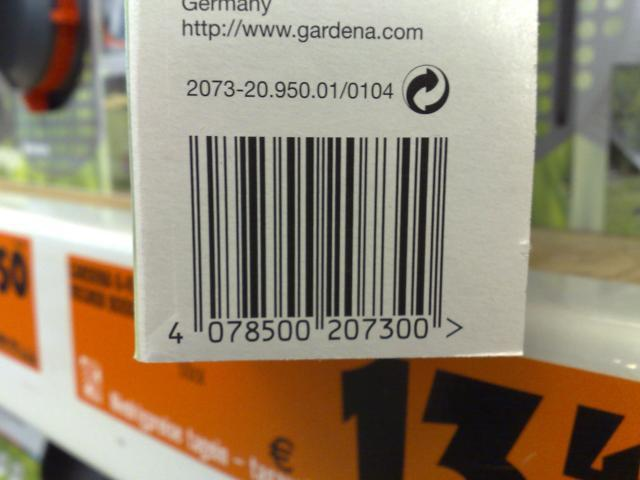Barcode: (165, 130, 450, 353)
